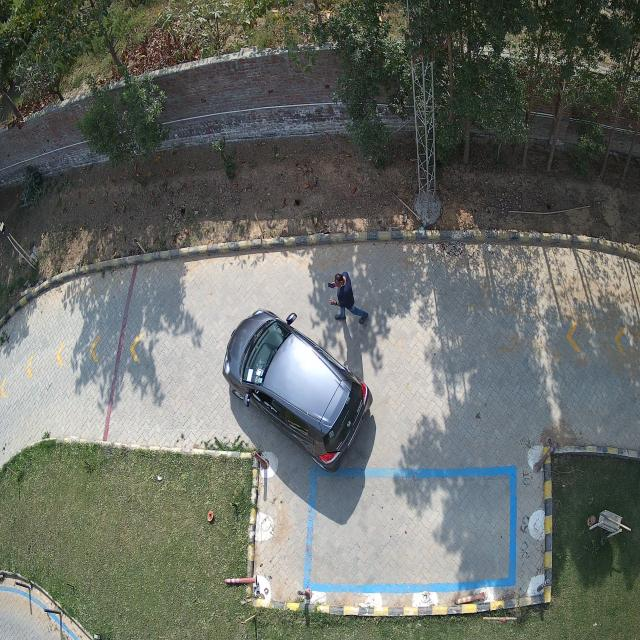car: (222, 310, 374, 470)
